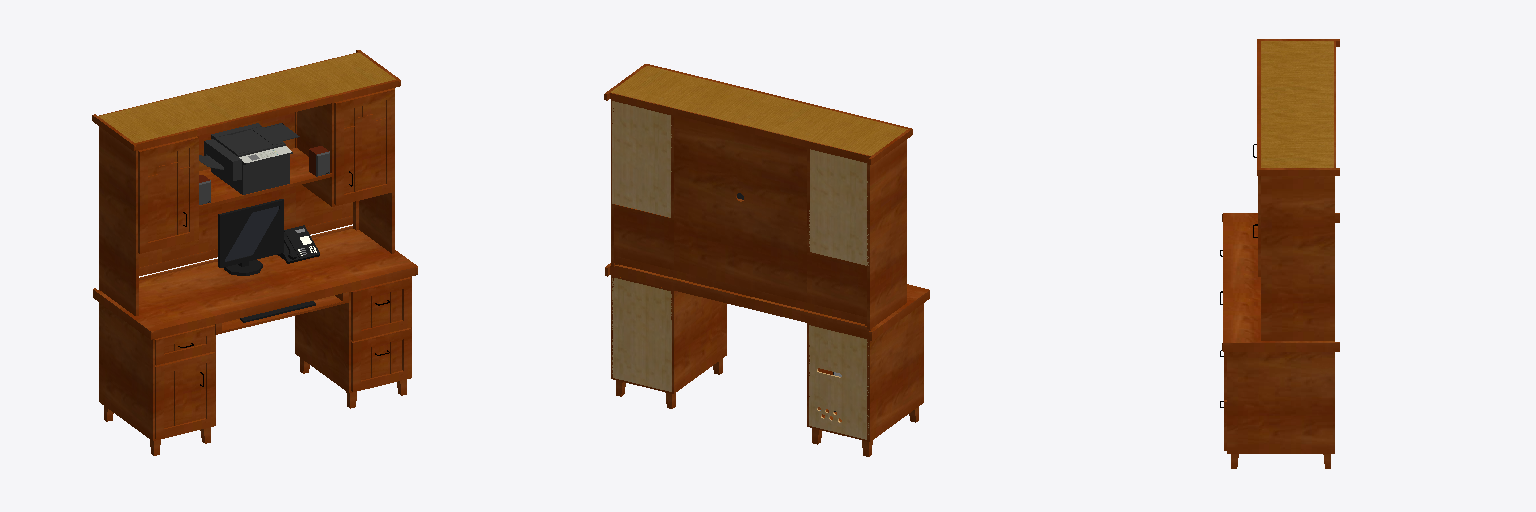
3 renders of one model, left to right at view 1: azimuth 30°, elevation 25°; view 2: azimuth 150°, elevation 25°; view 3: azimuth 270°, elevation 25°, orthographic.
Visible parts, largest first — view 1: Mesh17 desktop Computer_Desk Component_15_1 Model, Mesh84 top3 Computer_Desk Component_15_1 Model, Mesh75 long_side1 upper_carcase1 Computer_Desk Component_15_1 Mo, Mesh82 door_front1 Computer_Desk Component_15_1 Model, Mesh34 door_front Computer_Desk Component_15_1 Model, Mesh95 side13 lower_carcase1 Computer_Desk Component_15_1 Model, Mesh14 door_computer Computer_Desk Component_15_1 Model, Mesh35 side8 lower_carcase Computer_Desk Component_15_1 Model, Mesh114 multi_function_printer computer_components Computer_Desk, Mesh99 back7 shelf_back Computer_Desk Component_15_1 Model, Mesh7 file_drawer_front Computer_Desk Component_15_1 Model, Mesh32 file_drawer_front1 Computer_Desk Component_15_1 Model (+12 smaller); view 2: Mesh99 back7 shelf_back Computer_Desk Component_15_1 Model, Mesh84 top3 Computer_Desk Component_15_1 Model, Mesh75 long_side1 upper_carcase1 Computer_Desk Component_15_1 Mo, Mesh64 back_upper upper_carcase Computer_Desk Component_15_1 Mod, Mesh44 back3 lower_carcase Computer_Desk Component_15_1 Model, Mesh76 back_upper1 upper_carcase1 Computer_Desk Component_15_1 M, Mesh96 back5 lower_carcase1 Computer_Desk Component_15_1 Model, Mesh95 side13 lower_carcase1 Computer_Desk Component_15_1 Model, Mesh35 side8 lower_carcase Computer_Desk Component_15_1 Model, Mesh17 desktop Computer_Desk Component_15_1 Model, Mesh100 back8 shelf_back Computer_Desk Component_15_1 Model, Mesh98 back6 shelf_back Computer_Desk Component_15_1 Model (+1 smaller); view 3: Mesh67 long_side upper_carcase Computer_Desk Component_15_1 Mode, Mesh45 side9 lower_carcase Computer_Desk Component_15_1 Model, Mesh84 top3 Computer_Desk Component_15_1 Model, Mesh17 desktop Computer_Desk Component_15_1 Model.
Part boxes in pixels (x1,y1,x2,y2): Mesh17 desktop Computer_Desk Component_15_1 Model: (93,226,417,339); Mesh84 top3 Computer_Desk Component_15_1 Model: (92,50,400,150); Mesh75 long_side1 upper_carcase1 Computer_Desk Component_15_1 Mo: (99,127,138,315); Mesh82 door_front1 Computer_Desk Component_15_1 Model: (138,136,198,253); Mesh34 door_front Computer_Desk Component_15_1 Model: (334,88,394,204); Mesh95 side13 lower_carcase1 Computer_Desk Component_15_1 Model: (99,303,155,440); Mesh14 door_computer Computer_Desk Component_15_1 Model: (155,352,214,439); Mesh35 side8 lower_carcase Computer_Desk Component_15_1 Model: (295,292,351,392); Mesh114 multi_function_printer computer_components Computer_Desk: (199,137,292,194); Mesh99 back7 shelf_back Computer_Desk Component_15_1 Model: (162,112,295,261); Mesh7 file_drawer_front Computer_Desk Component_15_1 Model: (351,277,411,341); Mesh32 file_drawer_front1 Computer_Desk Component_15_1 Model: (351,328,411,391); Mesh99 back7 shelf_back Computer_Desk Component_15_1 Model: (674,115,806,302); Mesh84 top3 Computer_Desk Component_15_1 Model: (604,64,912,164); Mesh75 long_side1 upper_carcase1 Computer_Desk Component_15_1 Mo: (867,140,906,329); Mesh64 back_upper upper_carcase Computer_Desk Component_15_1 Mod: (612,101,671,217); Mesh44 back3 lower_carcase Computer_Desk Component_15_1 Model: (612,278,671,391); Mesh76 back_upper1 upper_carcase1 Computer_Desk Component_15_1 M: (809,149,868,265); Mesh96 back5 lower_carcase1 Computer_Desk Component_15_1 Model: (809,325,868,439); Mesh95 side13 lower_carcase1 Computer_Desk Component_15_1 Model: (867,303,923,441); Mesh35 side8 lower_carcase Computer_Desk Component_15_1 Model: (671,290,726,393); Mesh17 desktop Computer_Desk Component_15_1 Model: (605,263,929,340); Mesh100 back8 shelf_back Computer_Desk Component_15_1 Model: (807,253,866,316); Mesh98 back6 shelf_back Computer_Desk Component_15_1 Model: (614,206,673,269); Mesh67 long_side upper_carcase Computer_Desk Component_15_1 Mode: (1261,176,1334,340); Mesh45 side9 lower_carcase Computer_Desk Component_15_1 Model: (1227,352,1334,453); Mesh84 top3 Computer_Desk Component_15_1 Model: (1257,39,1339,175); Mesh17 desktop Computer_Desk Component_15_1 Model: (1222,213,1339,351).
Bounding box in the file's own units: 1.68 × 1.82 × 0.6554.
20 materials, 6 textured.